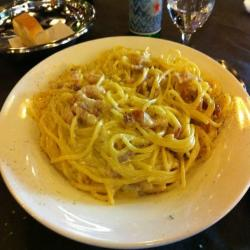bread: (5, 11, 79, 49)
carbonara: (30, 54, 234, 203)
